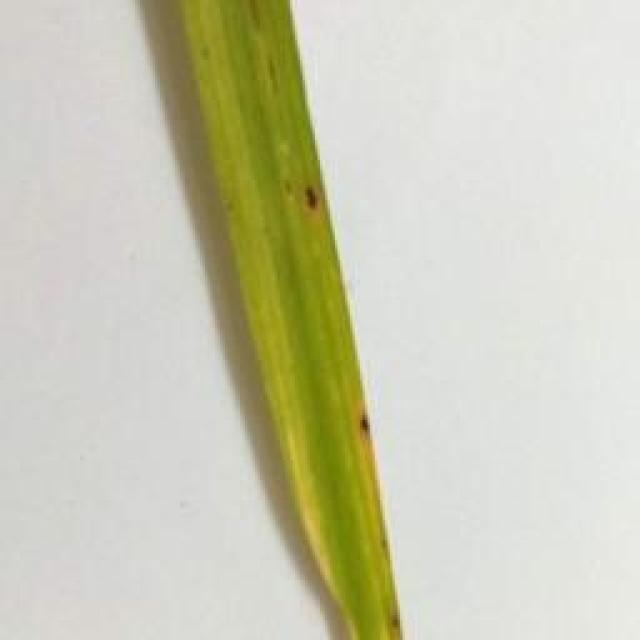Brown_Spot: (296, 169, 338, 232), (384, 609, 415, 640), (353, 407, 375, 436)
